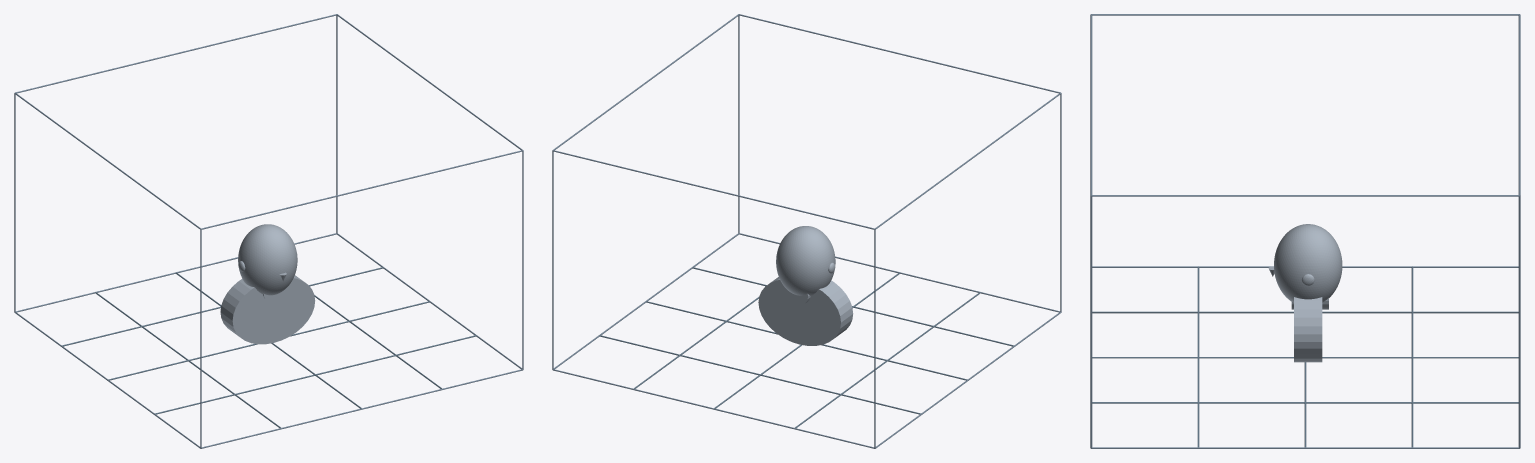
Rendered from room_with_listener.glb.
3 views of the same model, side by side, from view 1: azimuth 30°, elevation 25°; view 2: azimuth 150°, elevation 25°; view 3: azimuth 270°, elevation 25° (orthographic). The views are drawn at different scales.
Parts seen in each view (by area): view 1: geometry_0, geometry_0ab5cd08bbed9; view 2: geometry_0, geometry_0ab5cd08bbed9; view 3: geometry_0, geometry_0ab5cd08bbed9.
Boxes of the visible parts, x1,y1,x2,y2 form: geometry_0: [14, 14, 523, 448]; geometry_0ab5cd08bbed9: [220, 224, 315, 344]; geometry_0: [552, 14, 1061, 448]; geometry_0ab5cd08bbed9: [758, 226, 853, 345]; geometry_0: [1090, 14, 1520, 448]; geometry_0ab5cd08bbed9: [1268, 224, 1342, 362].
Bounding box in the file's own units: 4.02 × 2.62 × 4.02.
